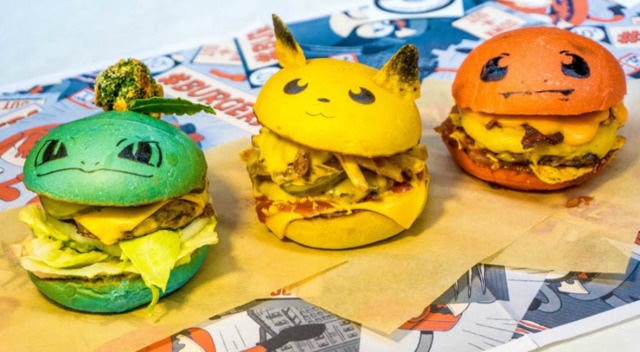hamburger_buns: (231, 13, 417, 143), (455, 11, 632, 118)
